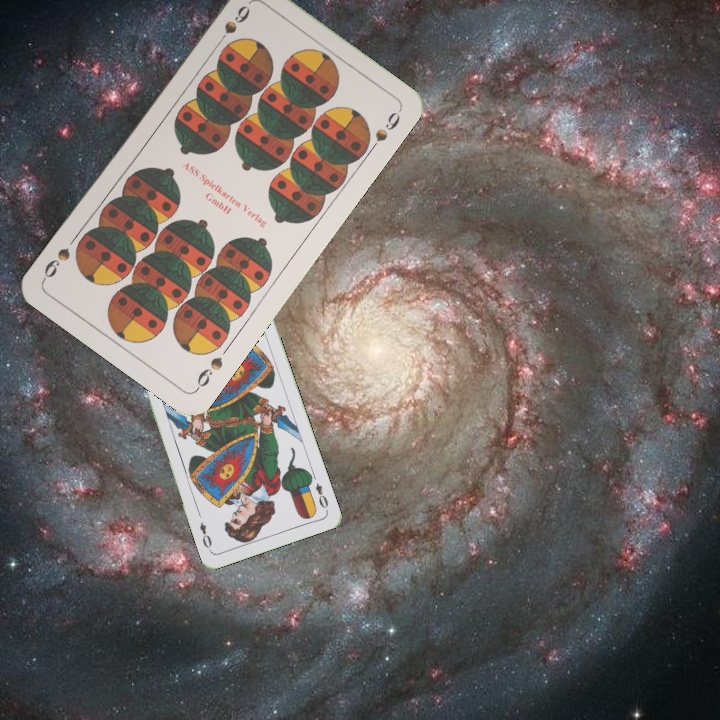EO: (311, 479, 331, 511)
S9: (211, 1, 253, 50), (191, 352, 226, 394)
